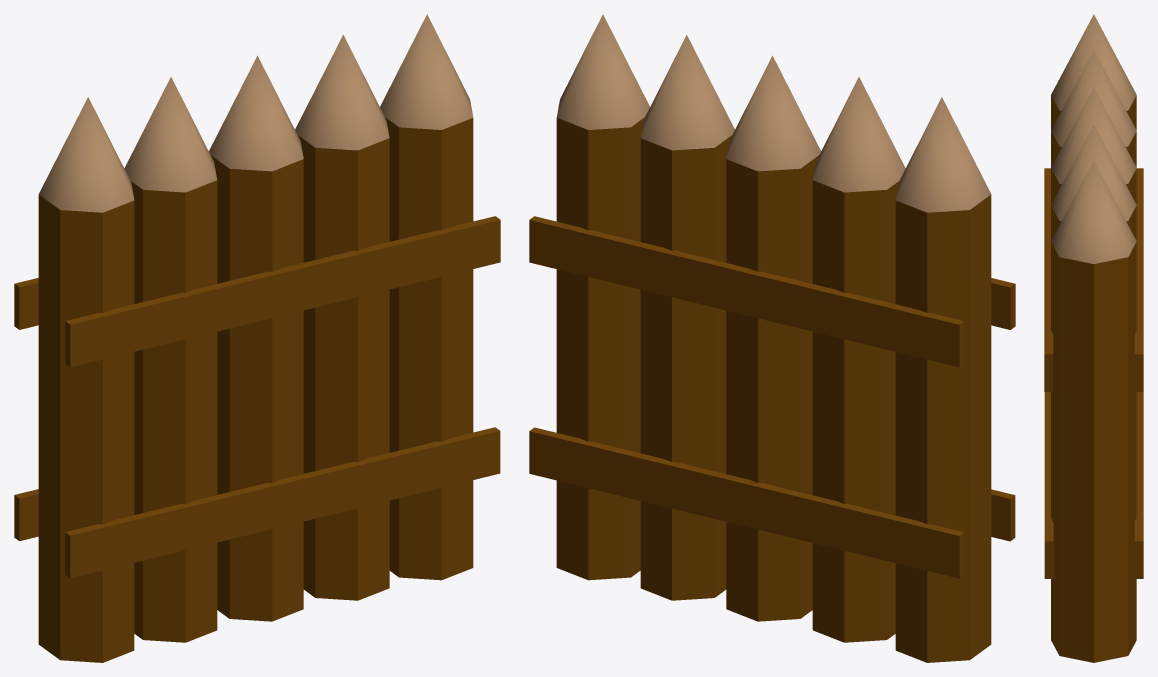
File: WoodSpikeWall.fbx
The picture shows the model from 3 angles, left to right: view 1: azimuth 30°, elevation 25°; view 2: azimuth 150°, elevation 25°; view 3: azimuth 270°, elevation 25°; orthographic projection. The views are drawn at different scales.
Parts seen in each view (by area): view 1: pCylinder6; view 2: pCylinder6; view 3: pCylinder6.
Boxes of the visible parts, bbox=[...] form: pCylinder6: bbox=[14, 14, 500, 662]; pCylinder6: bbox=[529, 14, 1015, 662]; pCylinder6: bbox=[1044, 14, 1143, 662].
Size of the model in its own units: 10 by 12.13 by 2.26.
